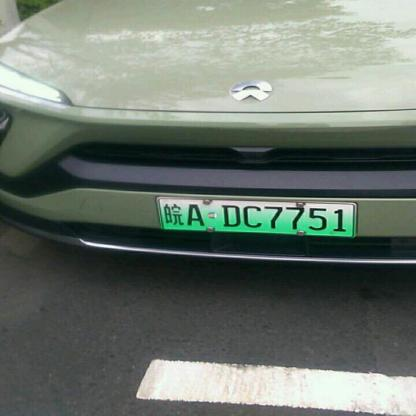lp: (156, 196, 355, 235)
